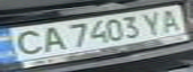0: (103, 16, 127, 43)
3: (121, 12, 145, 39)
4: (87, 18, 109, 45)
7: (63, 20, 90, 48)
A: (33, 25, 69, 54), (154, 7, 187, 34)
C: (3, 27, 51, 56)
Y: (139, 9, 169, 36)
